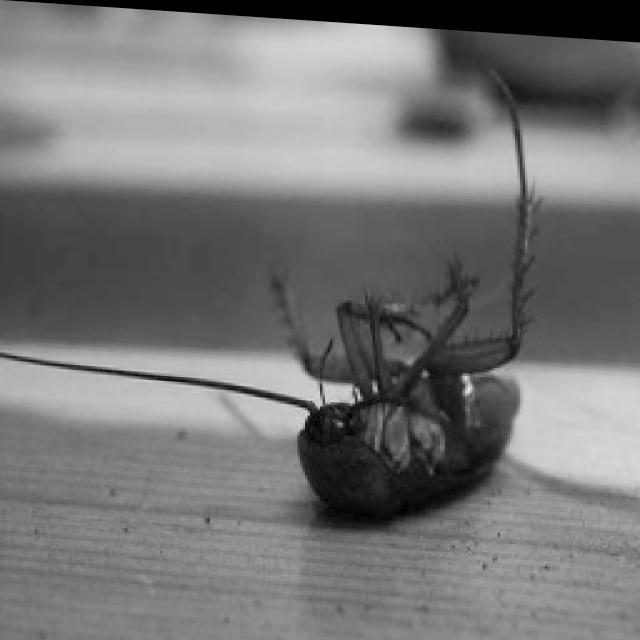cockroach: (266, 241, 550, 543)
